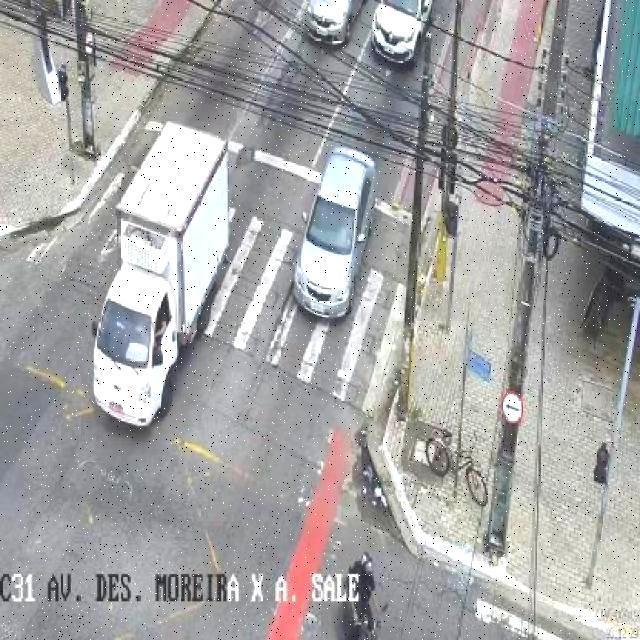Car: (289, 142, 388, 320), (364, 0, 442, 66), (290, 0, 360, 49)
Cycle: (428, 420, 490, 511)
Truck: (76, 127, 248, 429)
